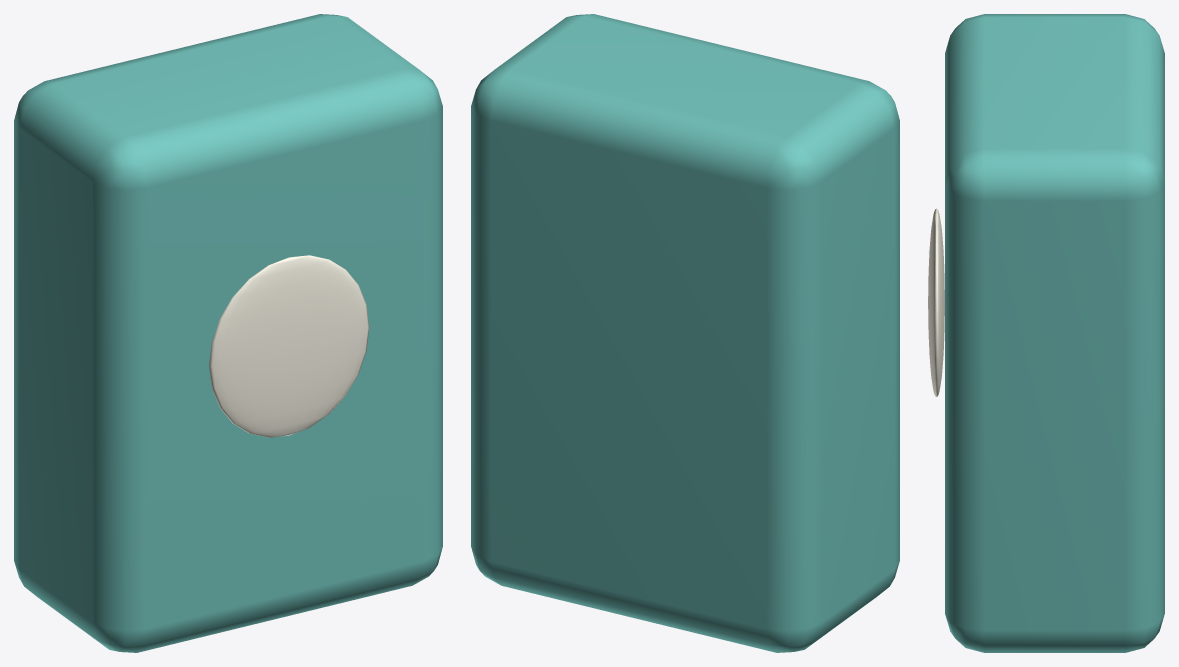
Rendered from foodBag.glb.
The picture shows the model from 3 angles, left to right: view 1: azimuth 30°, elevation 25°; view 2: azimuth 150°, elevation 25°; view 3: azimuth 270°, elevation 25°; orthographic projection. The views are drawn at different scales.
Parts seen in each view (by area): view 1: Food bag, Paw label; view 2: Food bag; view 3: Food bag, Paw label.
Part boxes in pixels (x1,y1,x2,y2): Food bag: (14, 14, 442, 652); Paw label: (209, 255, 369, 437); Food bag: (471, 14, 899, 652); Food bag: (945, 14, 1164, 652); Paw label: (928, 208, 944, 396).
Bounding box in the file's own units: 0.69 × 0.98 × 0.42.
